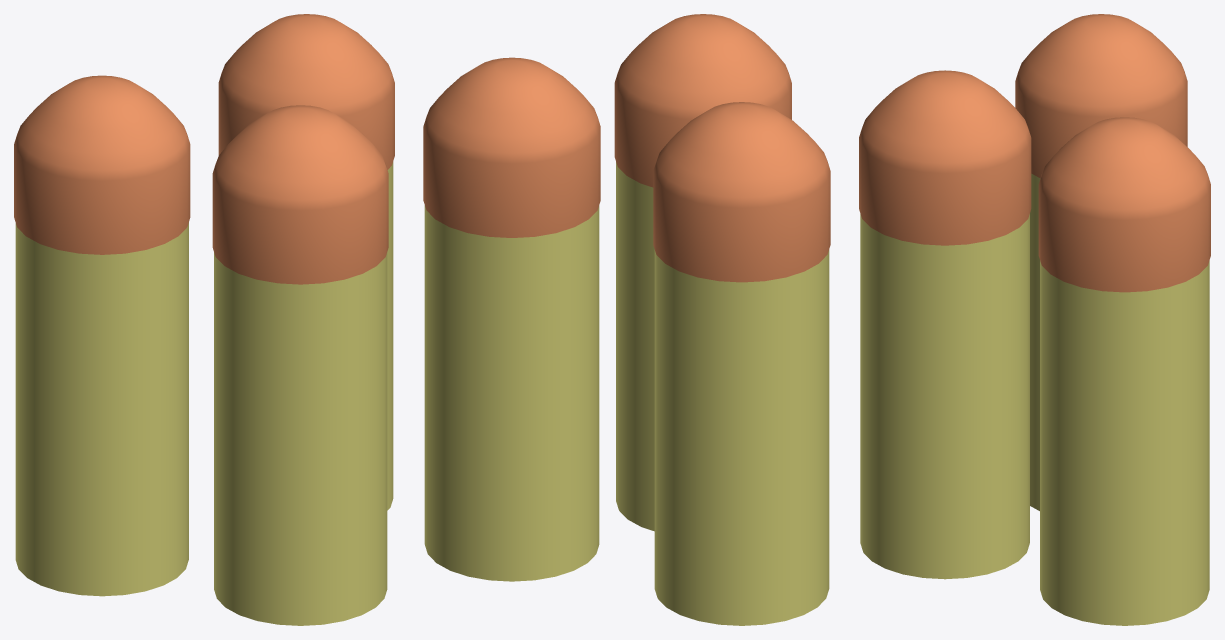
File: Ammo.fbx
The picture shows the model from 3 angles, left to right: view 1: azimuth 30°, elevation 25°; view 2: azimuth 150°, elevation 25°; view 3: azimuth 270°, elevation 25°; orthographic projection. The views are drawn at different scales.
Parts seen in each view (by area): view 1: Bala.002; view 2: Bala.002; view 3: Bala.002.
Boxes of the visible parts, left/top/right/bottom form: Bala.002: left=14, top=14, right=394, bottom=625; Bala.002: left=423, top=14, right=830, bottom=625; Bala.002: left=859, top=14, right=1210, bottom=625.
Size of the model in its own units: 157 by 193 by 132.
